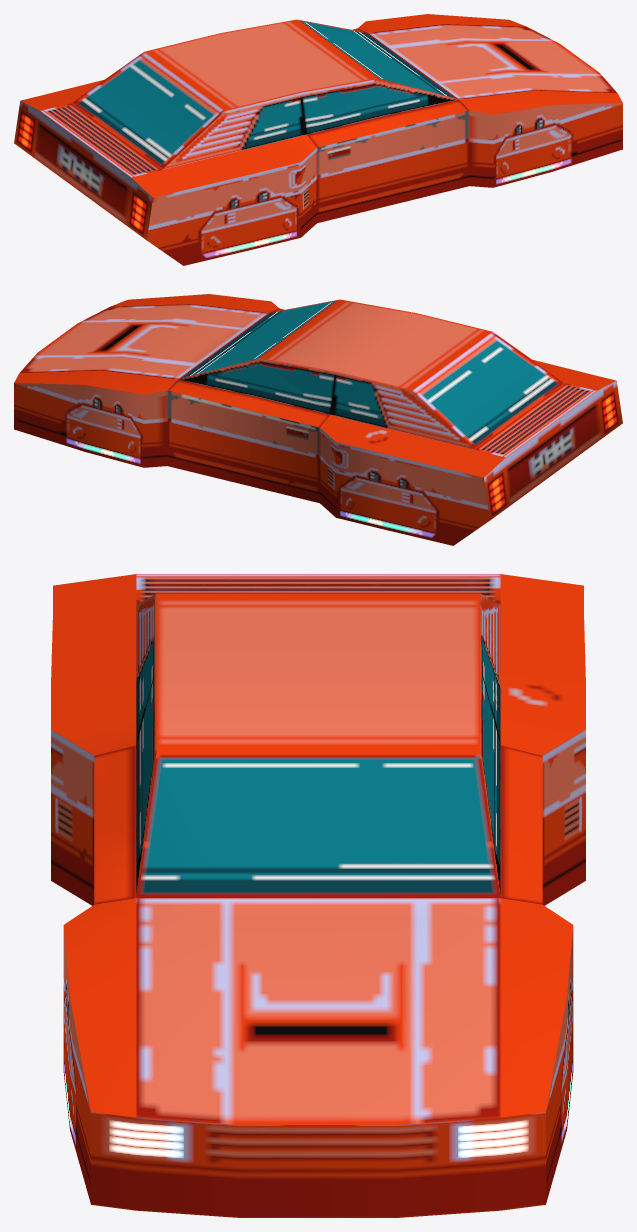
Rendered from coupe.FBX.
The picture shows the model from 3 angles, top to bottom: view 1: azimuth 30°, elevation 25°; view 2: azimuth 150°, elevation 25°; view 3: azimuth 270°, elevation 25°; orthographic projection. The views are drawn at different scales.
Parts seen in each view (by area): view 1: coupe; view 2: coupe; view 3: coupe.
Part boxes in pixels (box(x1,y1,x2,y2)): coupe: box(14, 14, 622, 265); coupe: box(14, 294, 622, 545); coupe: box(51, 574, 585, 1217).
Bounding box in the file's own units: 62.37 × 14.27 × 28.94.
Materials: 1 (1 with a texture image).
